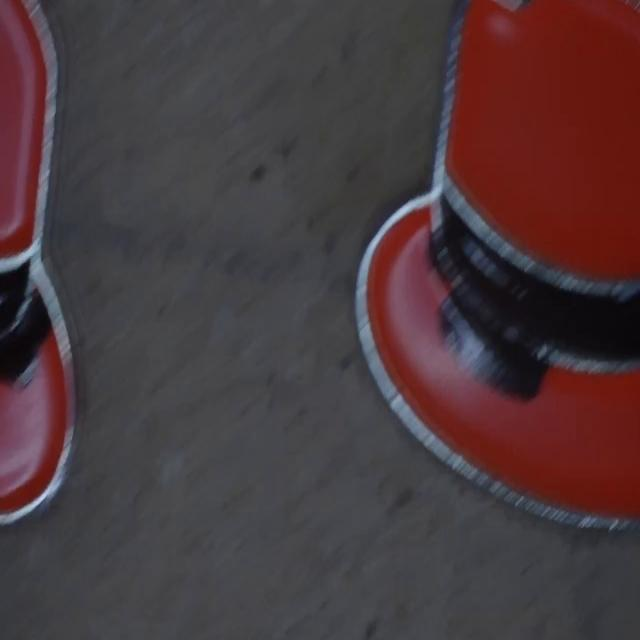Hatband: (431, 173, 640, 371), (0, 240, 40, 337)
Paint_Leak: (441, 296, 546, 397), (0, 289, 51, 379)
RedHatPin: (356, 0, 640, 527), (0, 0, 75, 523)
